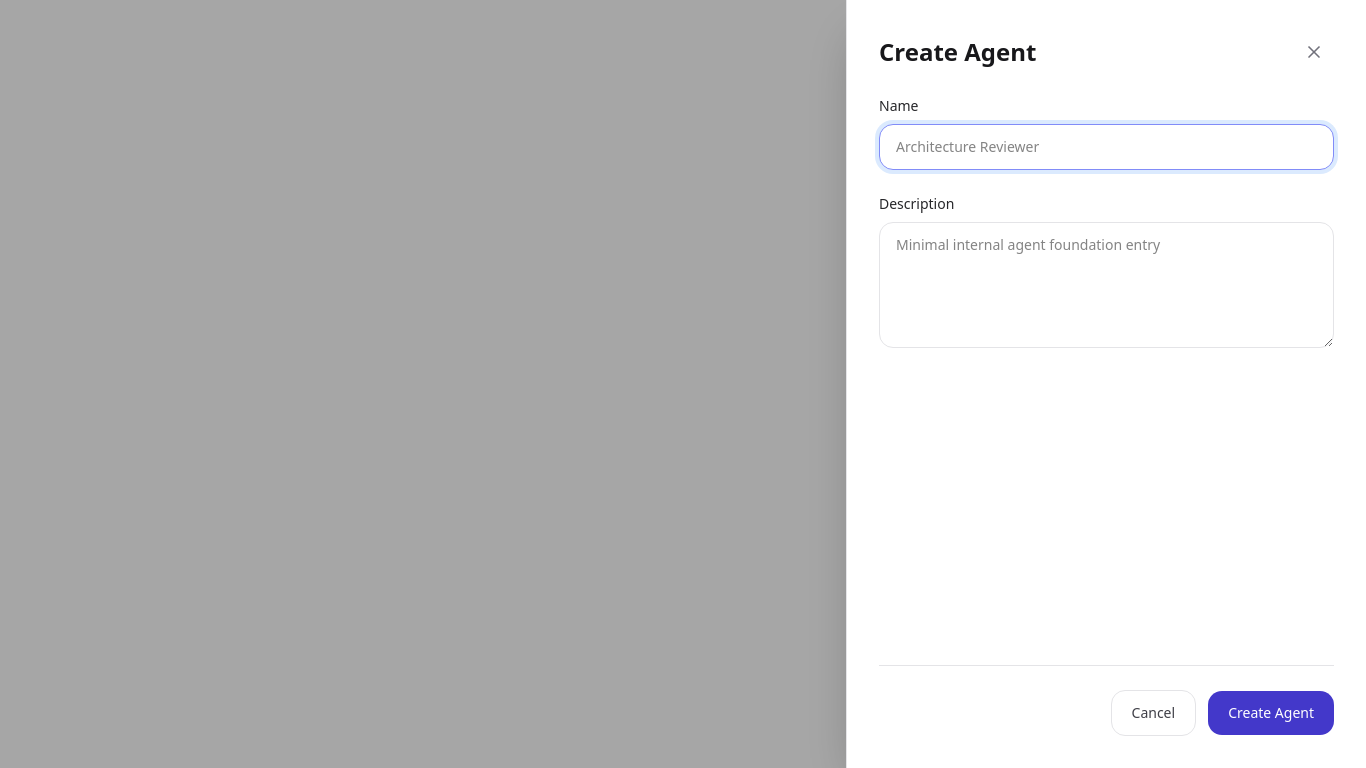
Test case: CreateAgentSheet › shows error toast when create request fails
Type "Agent" into the field labelled "Name" at (1106, 147), box [879,124,1334,170]
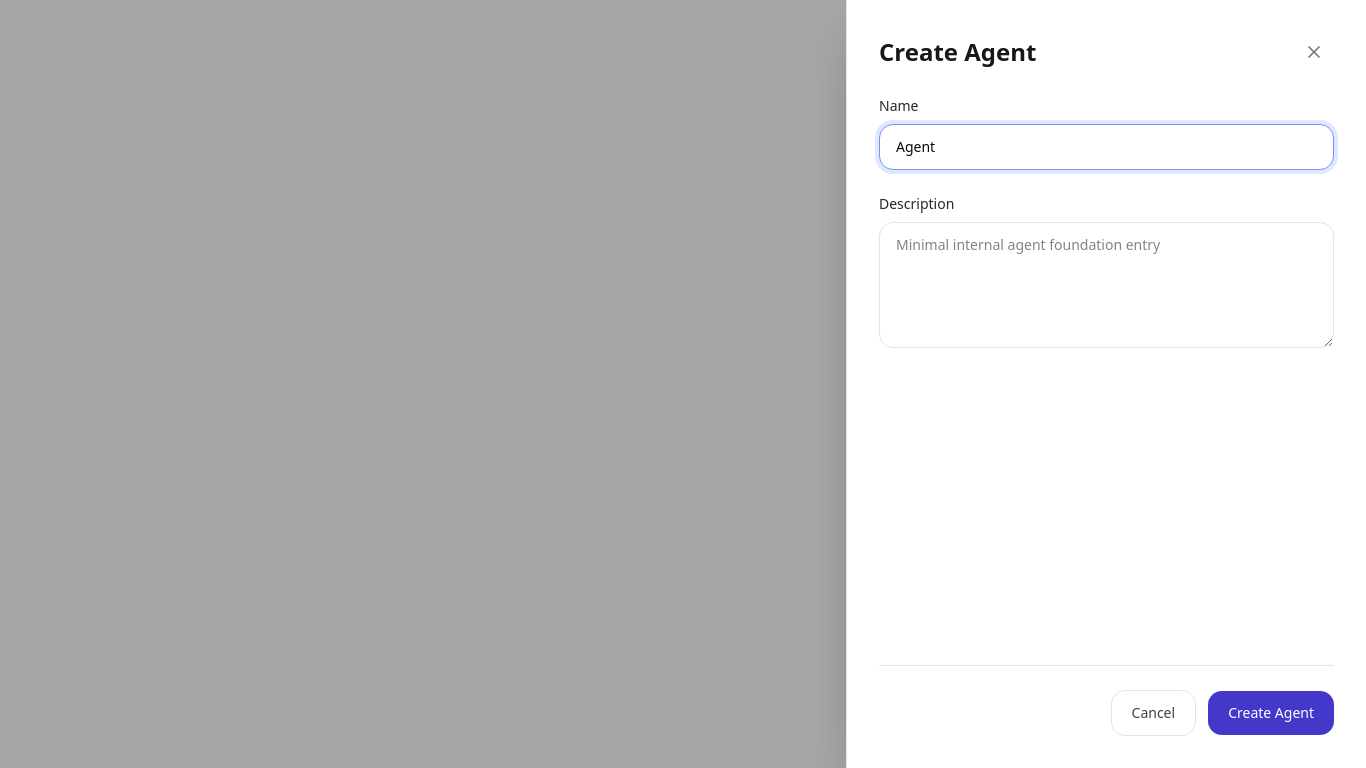
Type "Description" into the text box labelled "Description" at (1106, 285), box [879,222,1334,348]
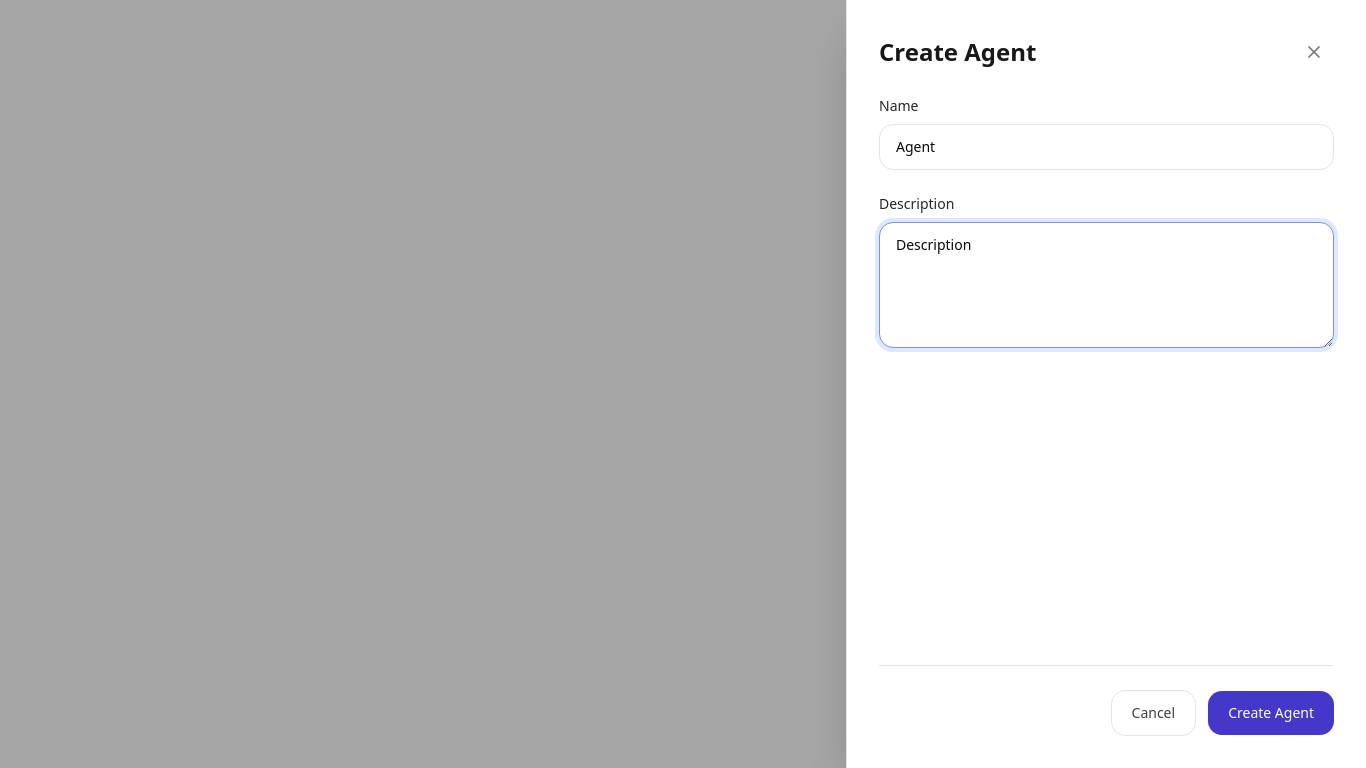
Click the button "Create Agent" at (1271, 713), box [1208,691,1334,735]
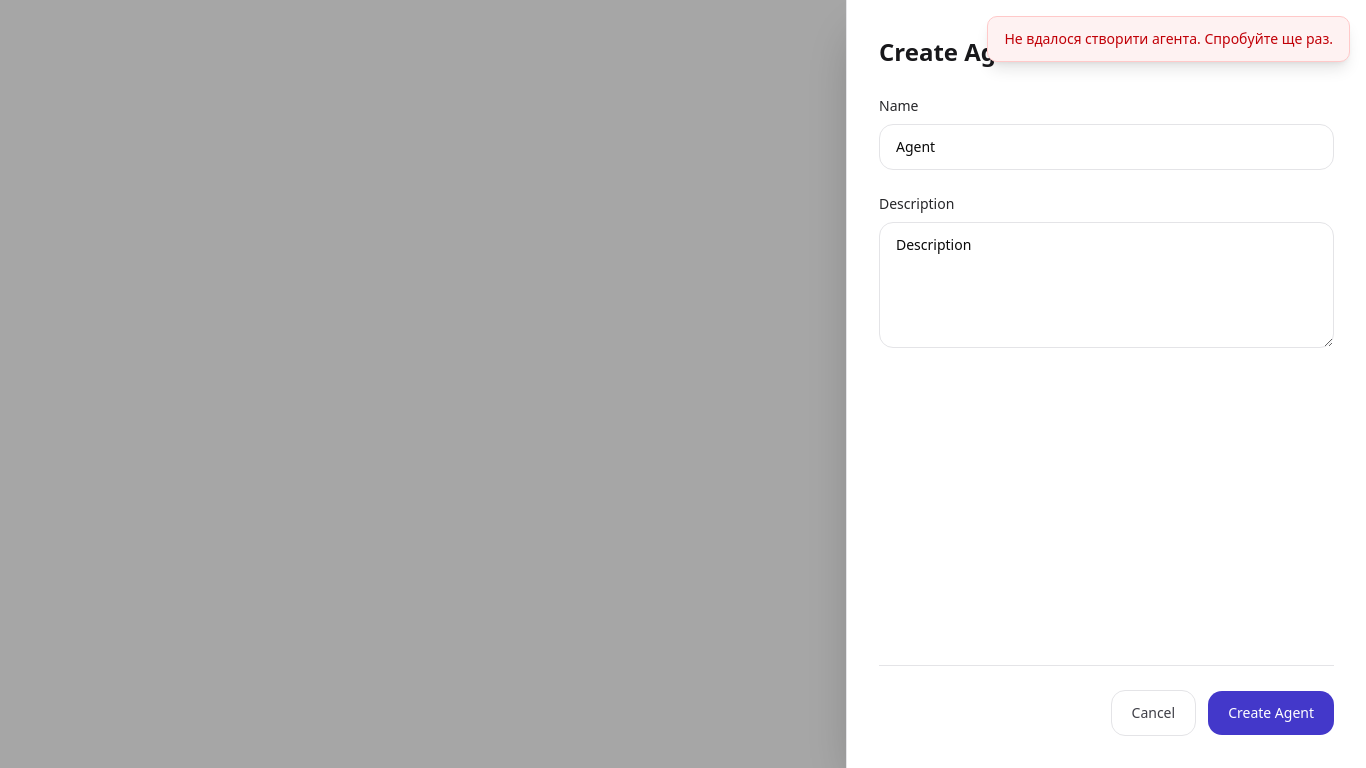
Expected: the text "Не вдалося створити агента. Спробуйте ще раз." is shown, [987,16,1350,62]
